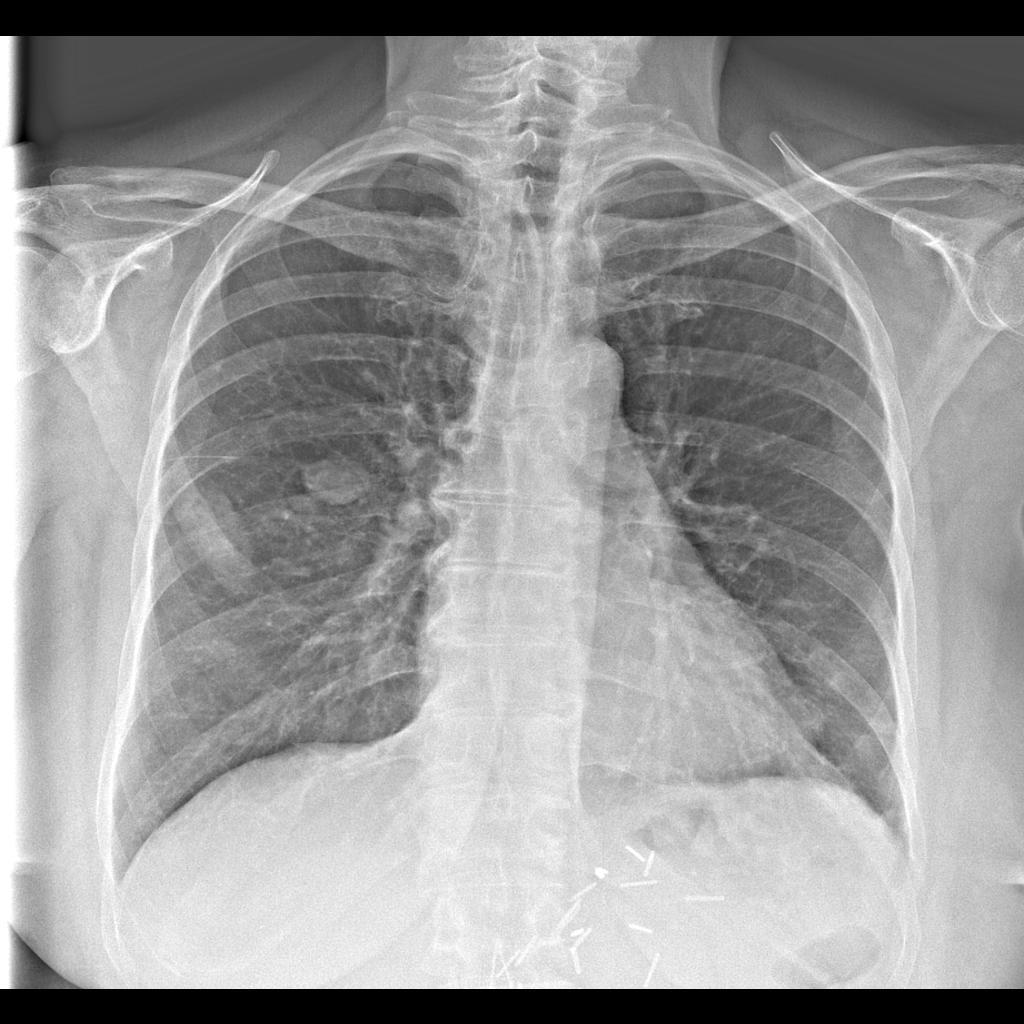Nodule: (166, 482, 272, 600), (291, 452, 379, 512)
